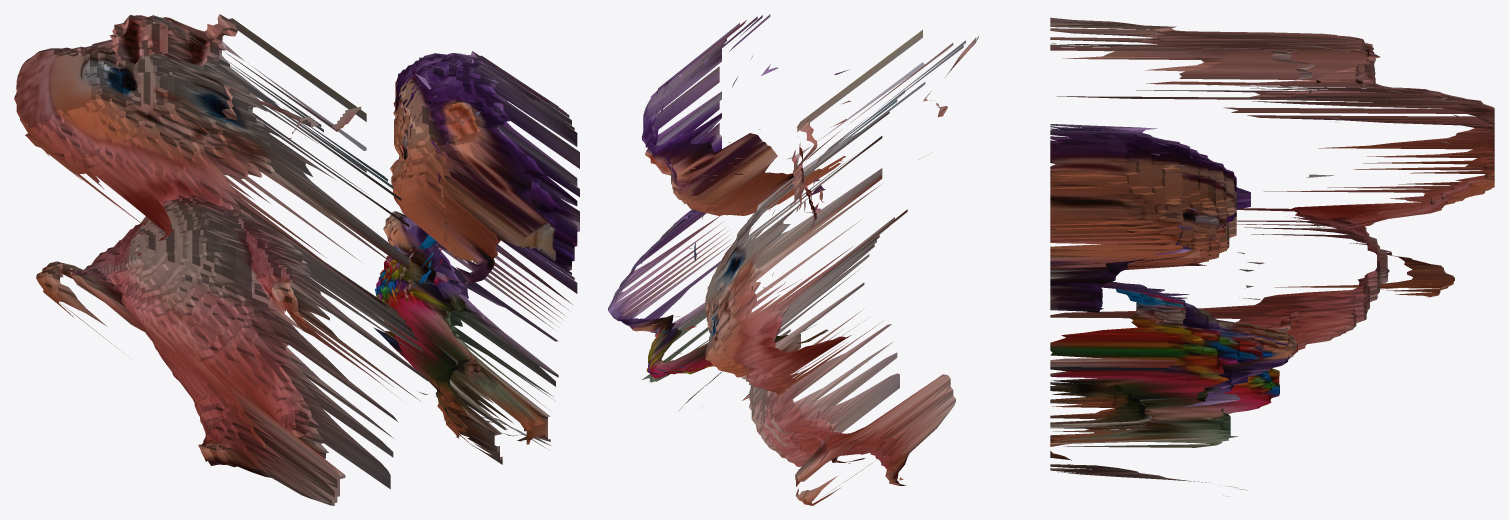
The model's file is frame_00073.glb.
3 views of the same model, side by side, from view 1: azimuth 30°, elevation 25°; view 2: azimuth 150°, elevation 25°; view 3: azimuth 270°, elevation 25° (orthographic). The views are drawn at different scales.
Parts seen in each view (by area): view 1: geometry_0; view 2: geometry_0; view 3: geometry_0.
Boxes of the visible parts, bbox=[...] form: geometry_0: bbox=[14, 14, 579, 505]; geometry_0: bbox=[608, 14, 978, 505]; geometry_0: bbox=[1050, 17, 1494, 496].
Size of the model in its own units: 0.1189 by 0.1505 by 0.16.
1 material, 1 textured.
